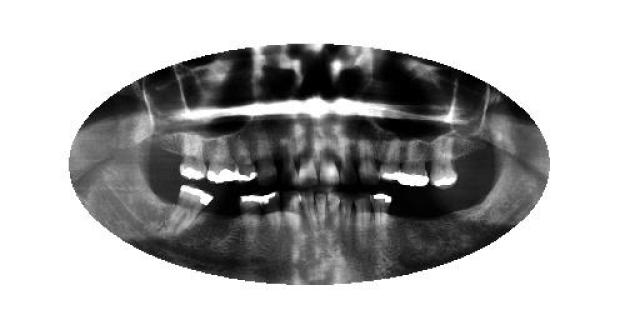Fillings: (173, 184, 215, 232), (204, 136, 238, 185), (398, 142, 432, 188), (430, 138, 458, 188), (178, 134, 208, 180), (370, 192, 394, 248), (235, 132, 259, 182), (238, 192, 264, 238), (381, 138, 400, 182), (264, 188, 282, 232)
